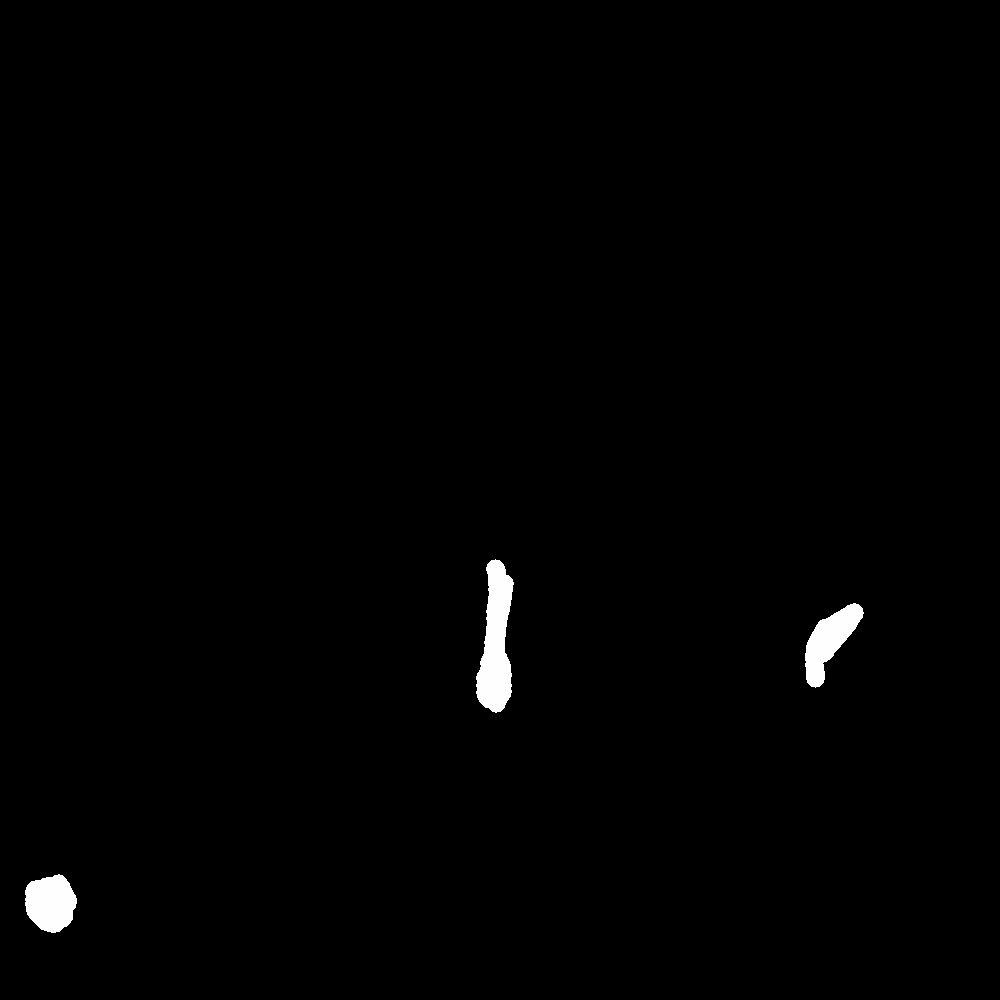illegal: (30, 835, 200, 963)
